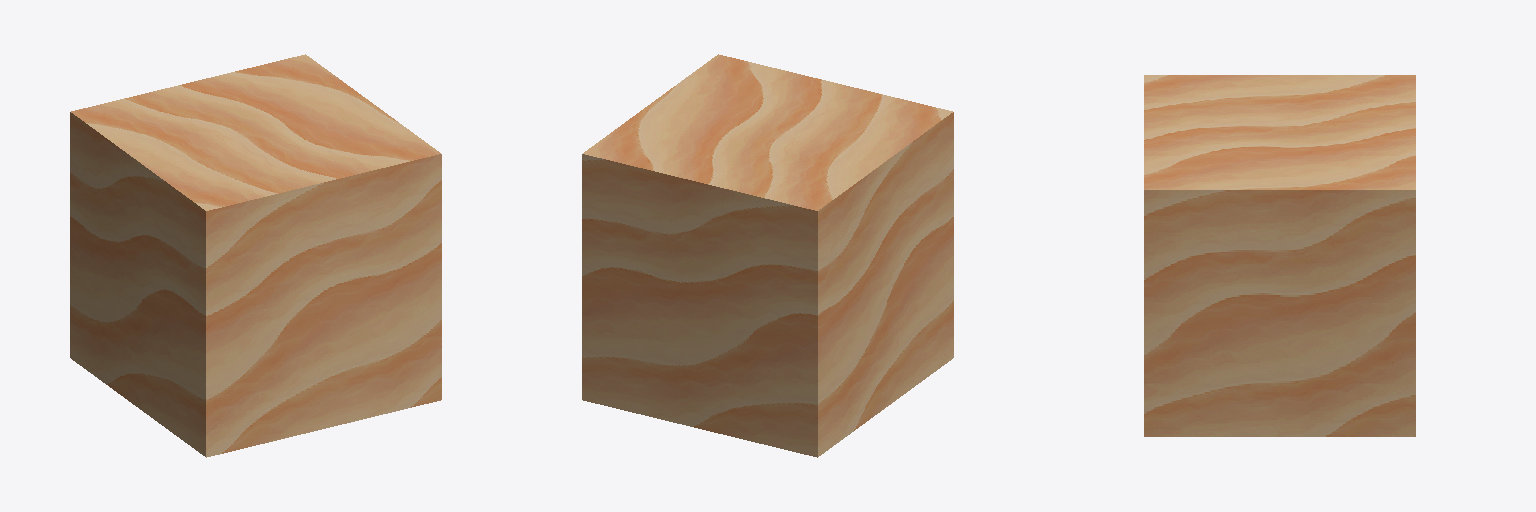
The picture shows the model from 3 angles: view 1: azimuth 30°, elevation 25°; view 2: azimuth 150°, elevation 25°; view 3: azimuth 270°, elevation 25°; orthographic projection.
Visible parts, largest first — view 1: Cube; view 2: Cube; view 3: Cube.
Boxes of the visible parts, x1,y1,x2,y2 form: Cube: [70, 54, 441, 457]; Cube: [582, 54, 953, 457]; Cube: [1144, 75, 1415, 436].
Size of the model in its own units: 2 by 2 by 2.
Materials: 1 (1 with a texture image).